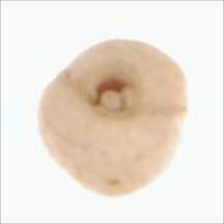L3: (89, 70, 140, 122)
L4: (37, 38, 188, 197)
